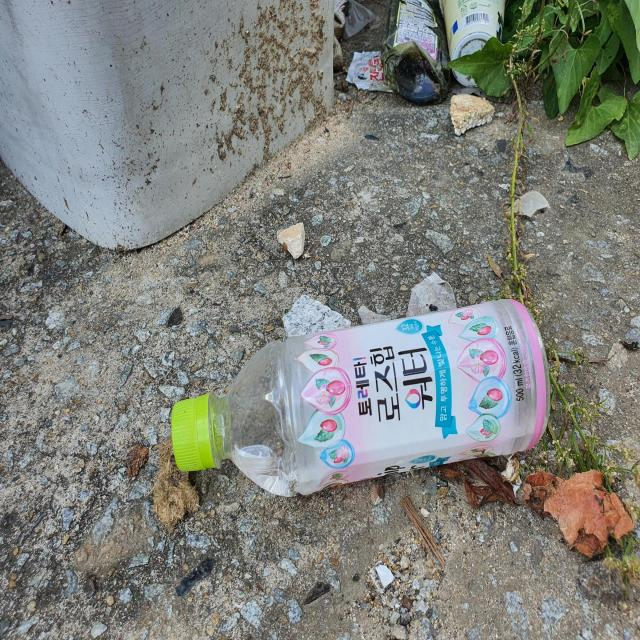plastic: (171, 299, 551, 496)
